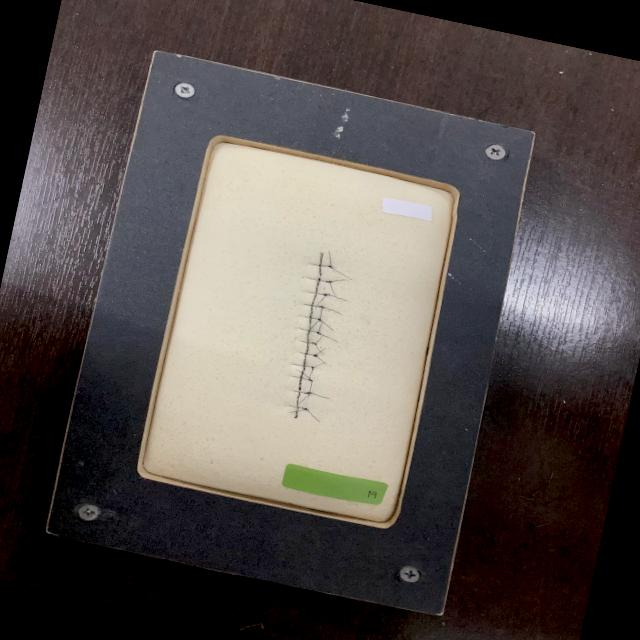knot: (301, 390, 314, 396), (298, 405, 309, 412), (315, 304, 327, 310), (325, 263, 335, 270), (305, 376, 315, 383), (308, 340, 318, 347), (314, 316, 324, 323), (320, 291, 330, 298), (313, 330, 323, 336), (322, 279, 334, 284), (308, 364, 316, 371), (310, 352, 319, 358)
leftover: (331, 266, 353, 280), (313, 293, 330, 310), (295, 391, 311, 406), (304, 408, 321, 422), (294, 368, 311, 380), (319, 333, 339, 343), (322, 306, 342, 315), (326, 293, 348, 301), (309, 391, 330, 399), (307, 318, 321, 330), (320, 320, 334, 331), (314, 343, 325, 356), (315, 354, 327, 365), (313, 333, 325, 344), (313, 346, 326, 356), (307, 366, 314, 382), (306, 380, 312, 398), (287, 408, 307, 413), (312, 361, 326, 368), (328, 280, 335, 294), (318, 306, 324, 322), (317, 320, 323, 333), (327, 249, 331, 267), (330, 278, 346, 282)
stitch: (298, 327, 322, 335), (307, 277, 333, 283), (291, 375, 313, 382), (287, 404, 307, 410), (291, 363, 315, 368), (298, 351, 318, 357), (310, 263, 334, 268), (302, 303, 325, 308), (303, 316, 322, 322), (299, 340, 317, 345), (307, 291, 329, 295), (292, 390, 312, 394)
wound: (292, 251, 323, 419)
